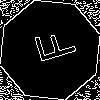F: (25, 25, 78, 68)
